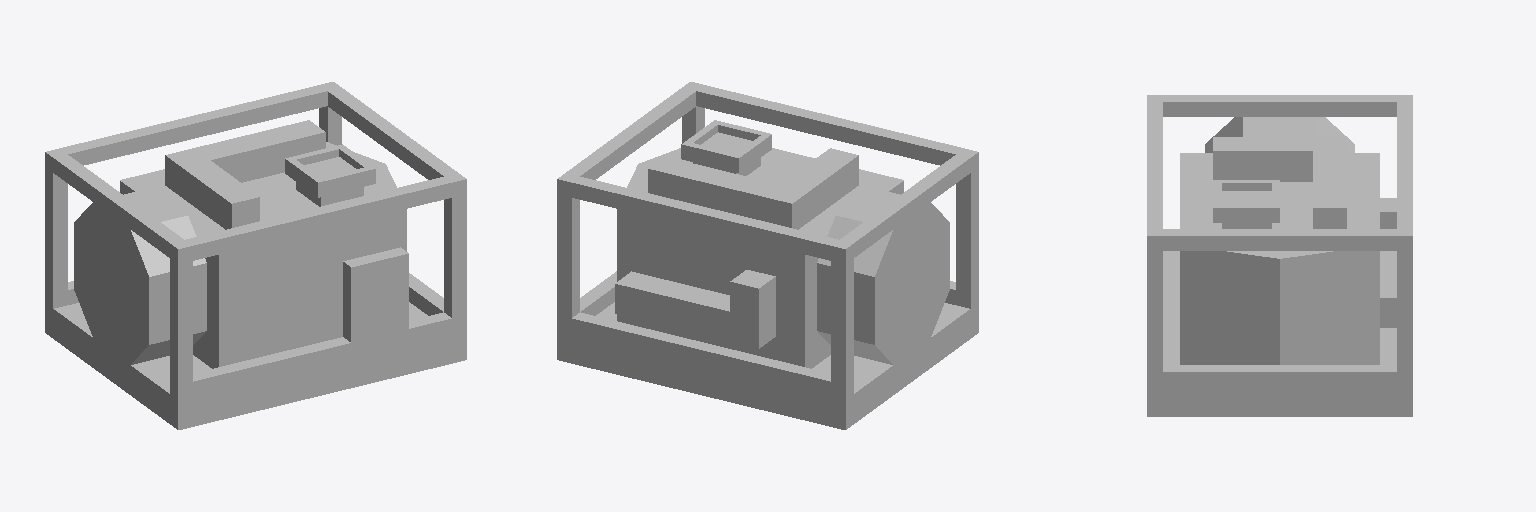
The model's file is biomassGenerator.obj.
3 views of the same model, side by side, from view 1: azimuth 30°, elevation 25°; view 2: azimuth 150°, elevation 25°; view 3: azimuth 270°, elevation 25° (orthographic).
Visible parts, largest first — view 1: generator_Cube.001; view 2: generator_Cube.001; view 3: generator_Cube.001.
Boxes of the visible parts, box(x1,y1,x2,y2) form: generator_Cube.001: box(45, 82, 466, 429); generator_Cube.001: box(557, 82, 978, 429); generator_Cube.001: box(1147, 95, 1412, 416).
Bounding box in the file's own units: 5 × 3 × 4.